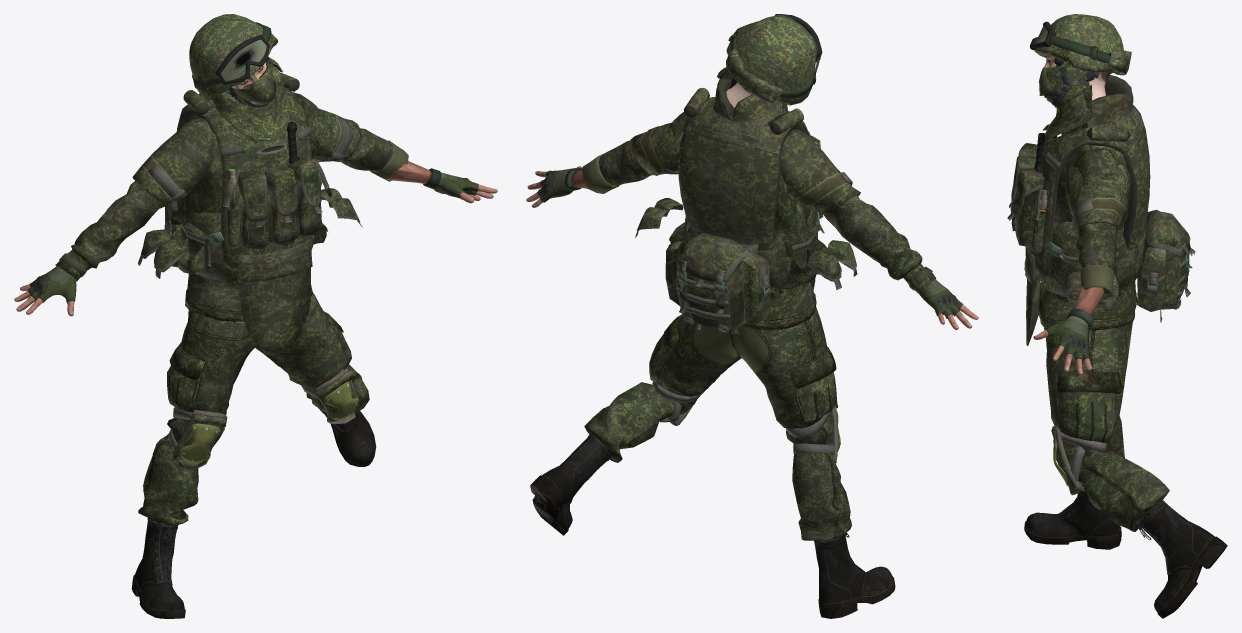
Rendered from corpse_front.glb.
3 renders of one model, left to right at view 1: azimuth 30°, elevation 25°; view 2: azimuth 150°, elevation 25°; view 3: azimuth 270°, elevation 25°, orthographic.
Visible parts, largest first — view 1: Object_2; view 2: Object_2; view 3: Object_2.
Boxes of the visible parts, bbox=[...] form: Object_2: bbox=[14, 14, 497, 618]; Object_2: bbox=[526, 14, 978, 618]; Object_2: bbox=[1007, 14, 1227, 618].
Bounding box in the file's own units: 1.51 × 1.78 × 0.6314.
5 materials, 5 textured.
